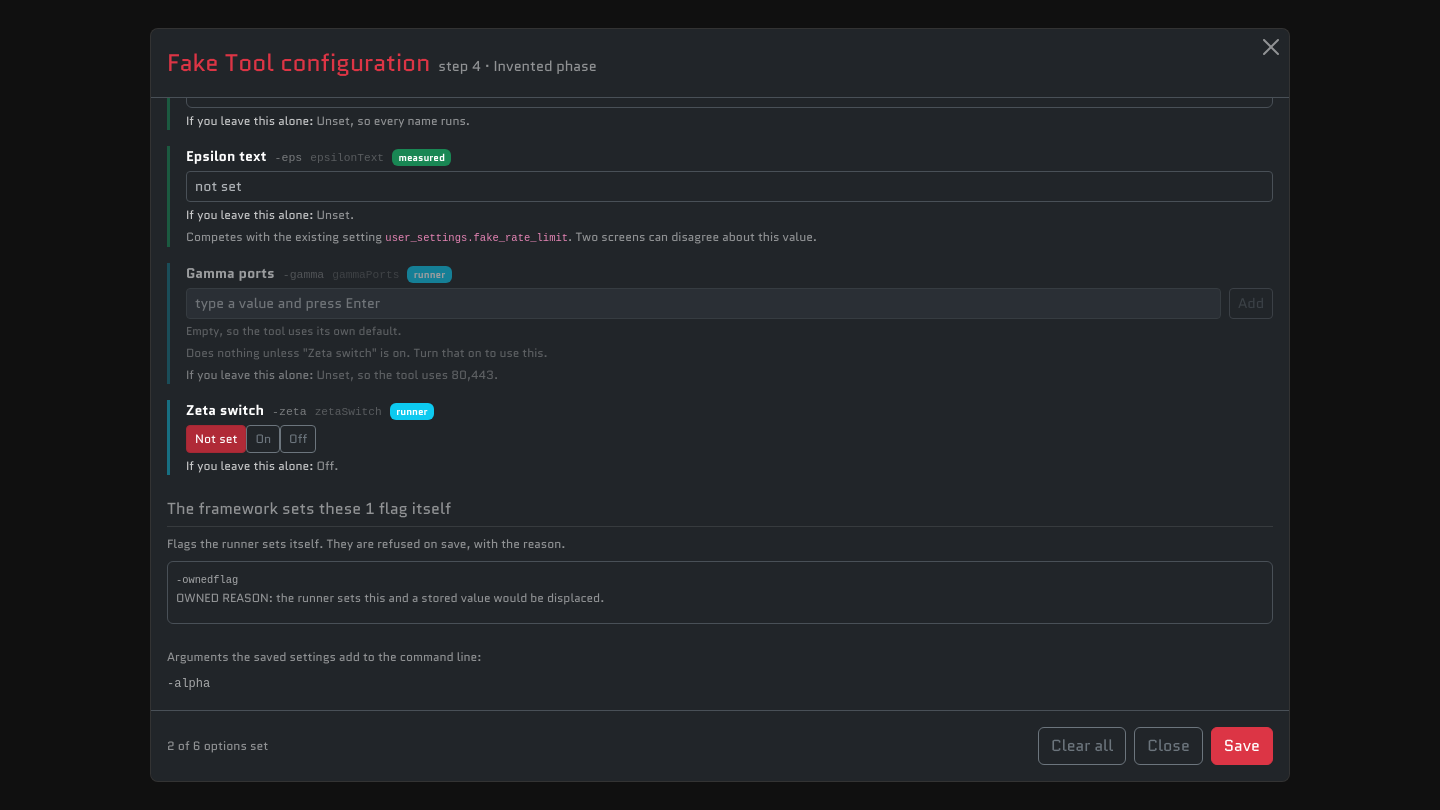
Test: an option that needs another switch is disabled until that switch is on
(page scrolled)
Expected: the text "Gamma ports" is shown, [186,263,275,284]
Expected: the text "Does nothing unless \"Zeta switch\" is on" is shown, [186,344,548,361]
// Turning the governing switch on releases it immediately, without a save round trip.
Click the radio button with id "wildcard-faketool-zetaSwitch-on". click: x=253, y=432
box: [246,425,259,438]
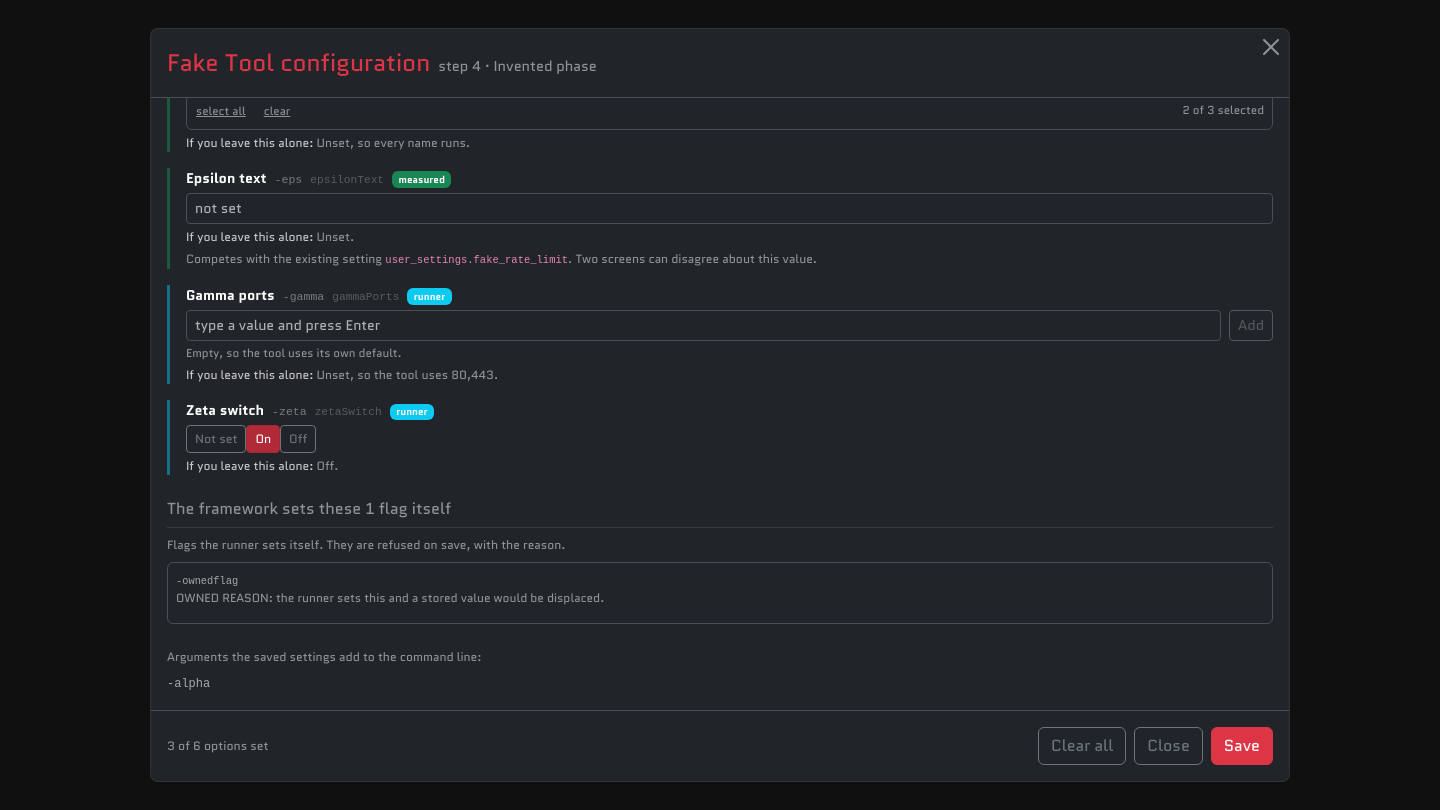
Expected: the field with id "wildcard-faketool-gammaPorts" is enabled, [186,310,1221,341]
